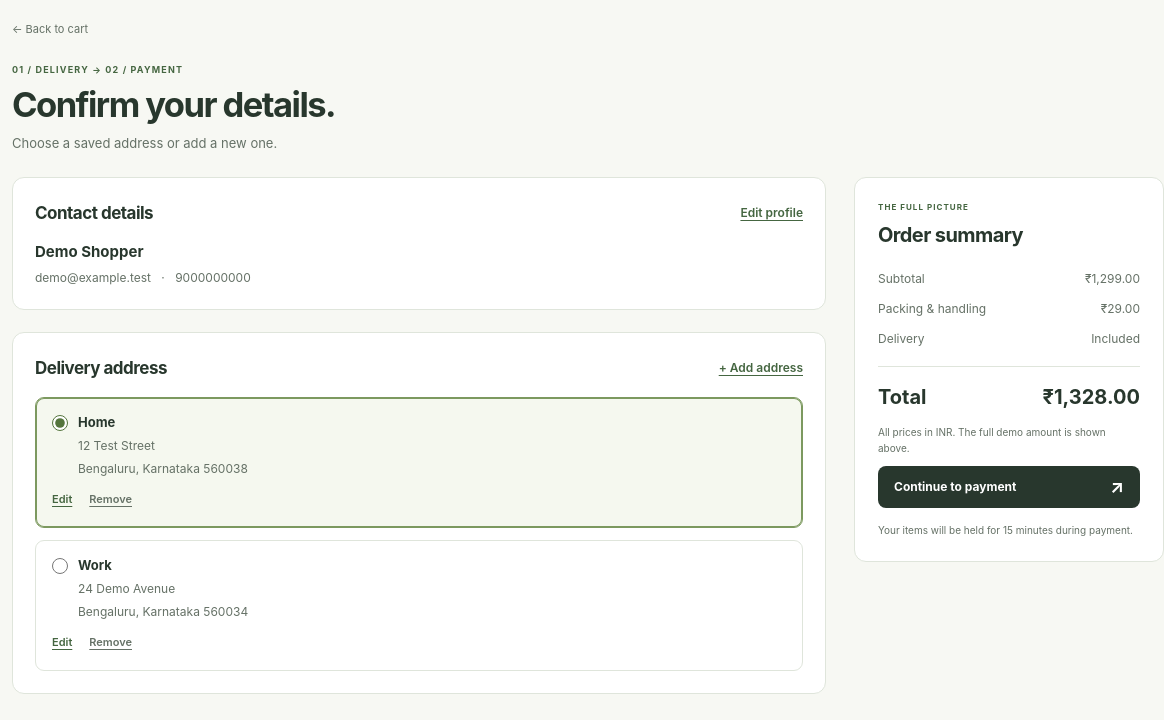
Scenario: recovers the saved order after a lost response and address change even if refresh fails
Expected: the text "Demo Shopper" is shown, [35, 242, 144, 261]
Click the button "Continue to payment ↗".
click(1009, 487)  # box [878, 466, 1140, 508]
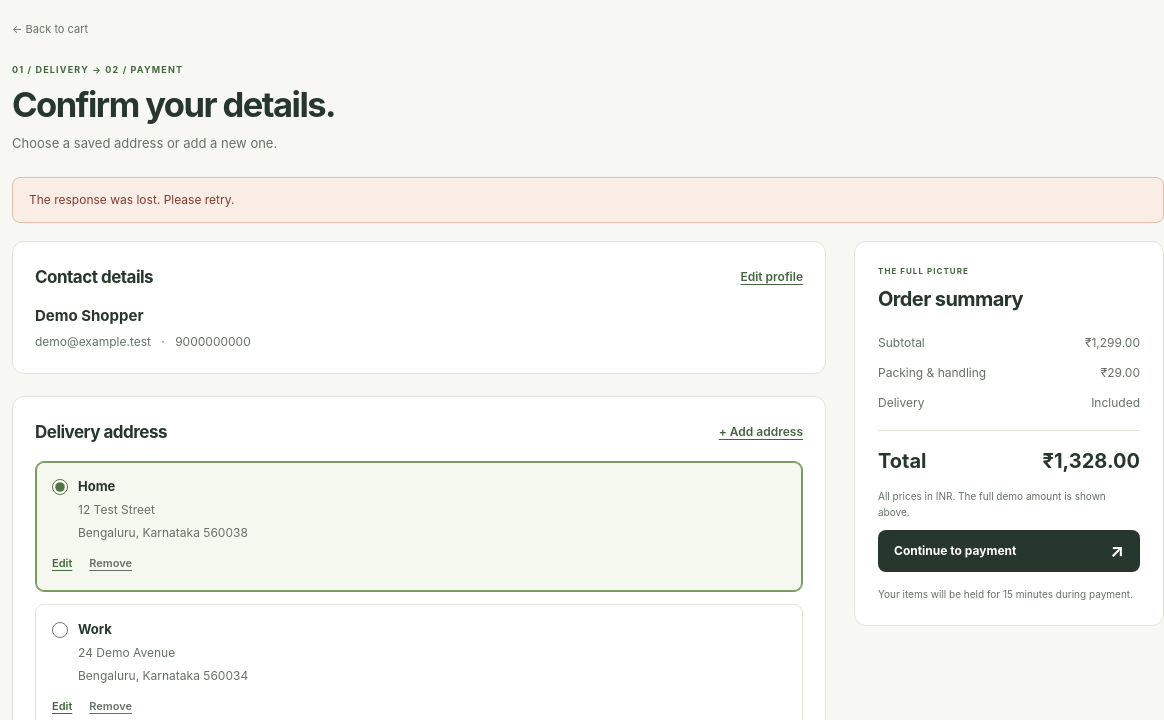
Result: the message "The response was lost. Please retry." is shown at [12, 177, 1163, 223]
Click the radio button labelled "Work 24 Demo Avenue Bengaluru, Karnataka 560034".
click(60, 630)  # box [52, 622, 68, 638]
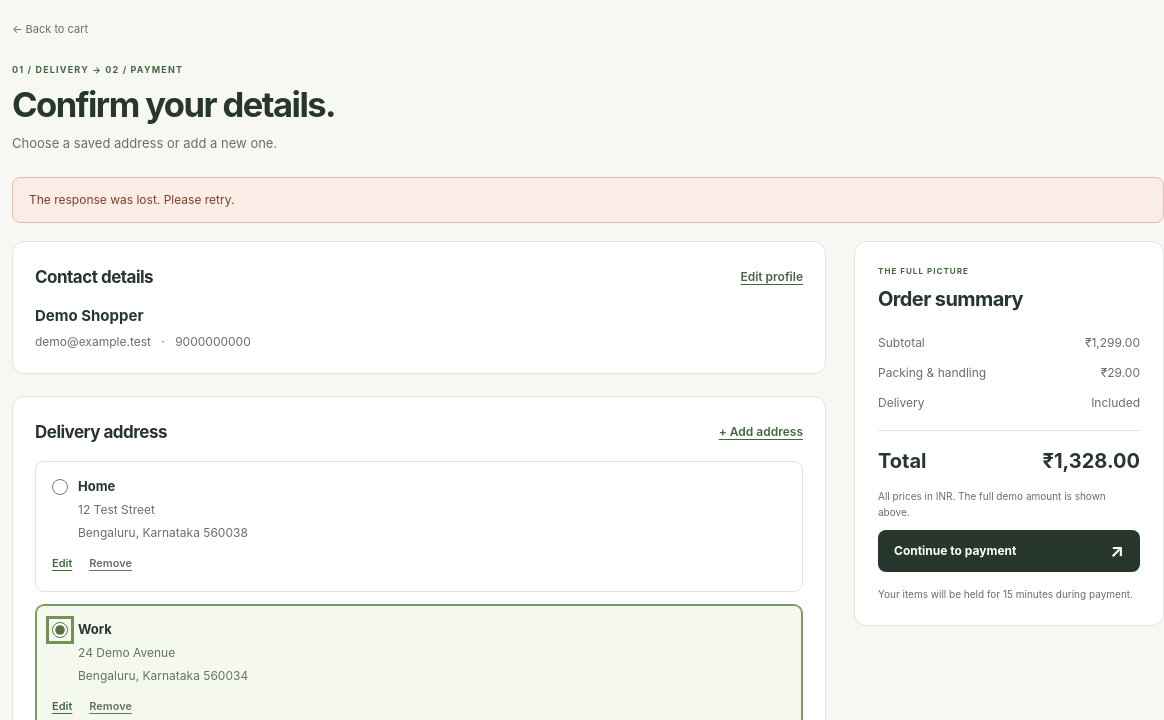
Click the button "Continue to payment ↗".
click(1009, 551)  # box [878, 530, 1140, 572]
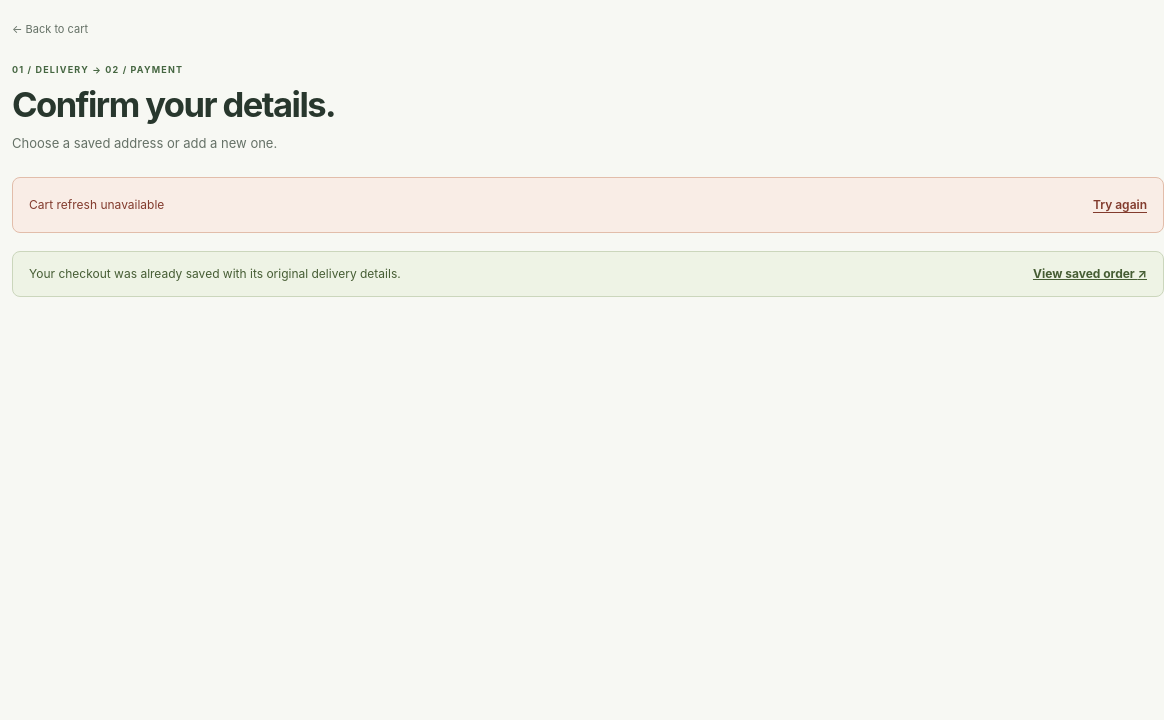
Result: the button "Continue to payment" is gone
